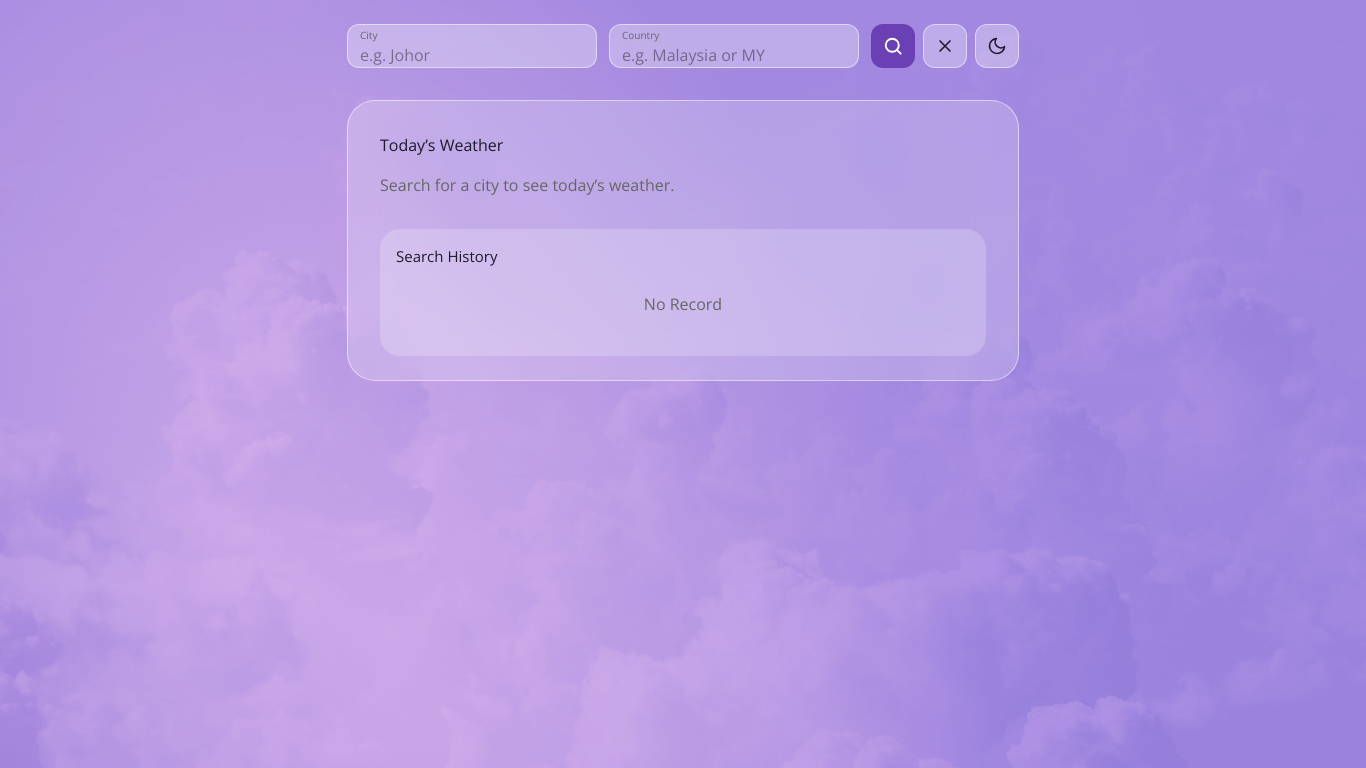
App › shows "Not found" for an unknown city and does not record it
The image size is (1366, 768).
Clear the field labelled "City" at (472, 53), box [360,40,584,67]
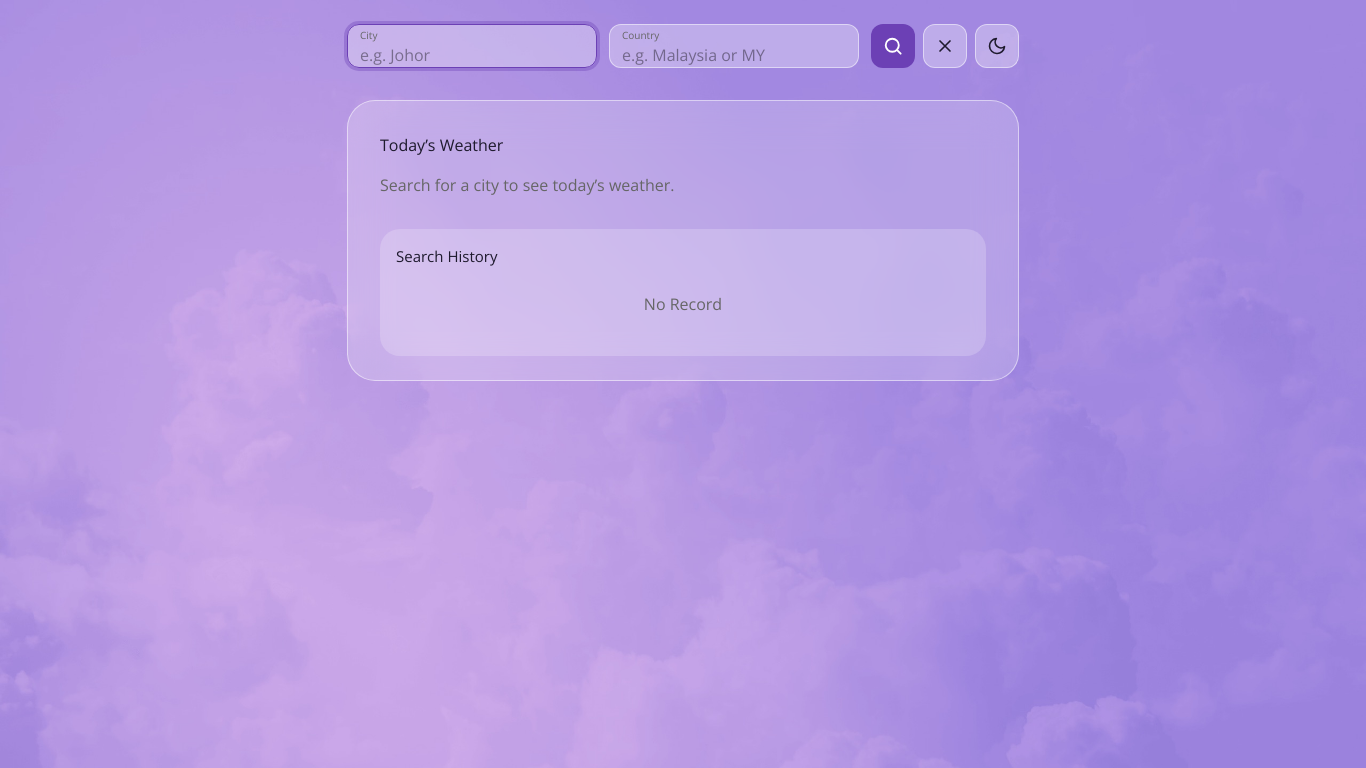
Clear the field labelled "Country" at (734, 53), box [622,40,846,67]
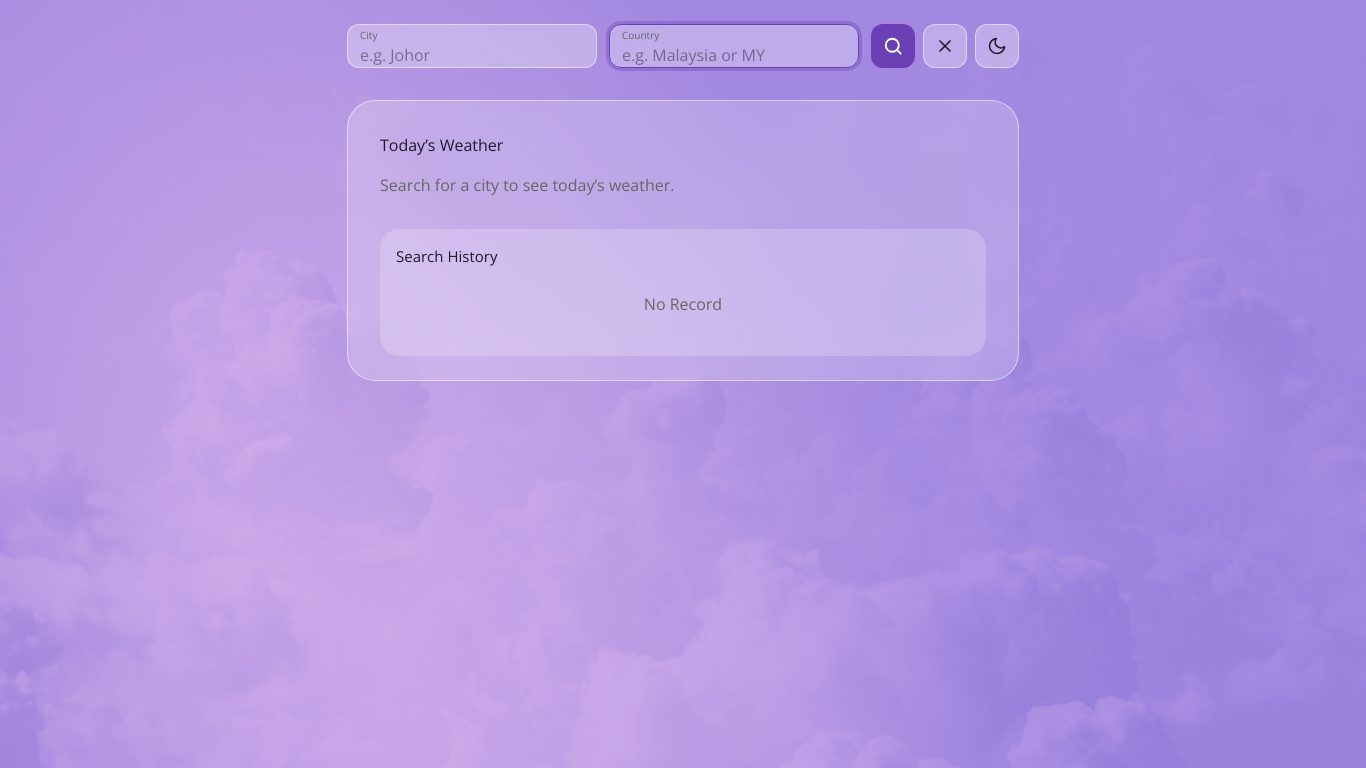
Type "xxx" into the field labelled "City" at (472, 53), box [360,40,584,67]
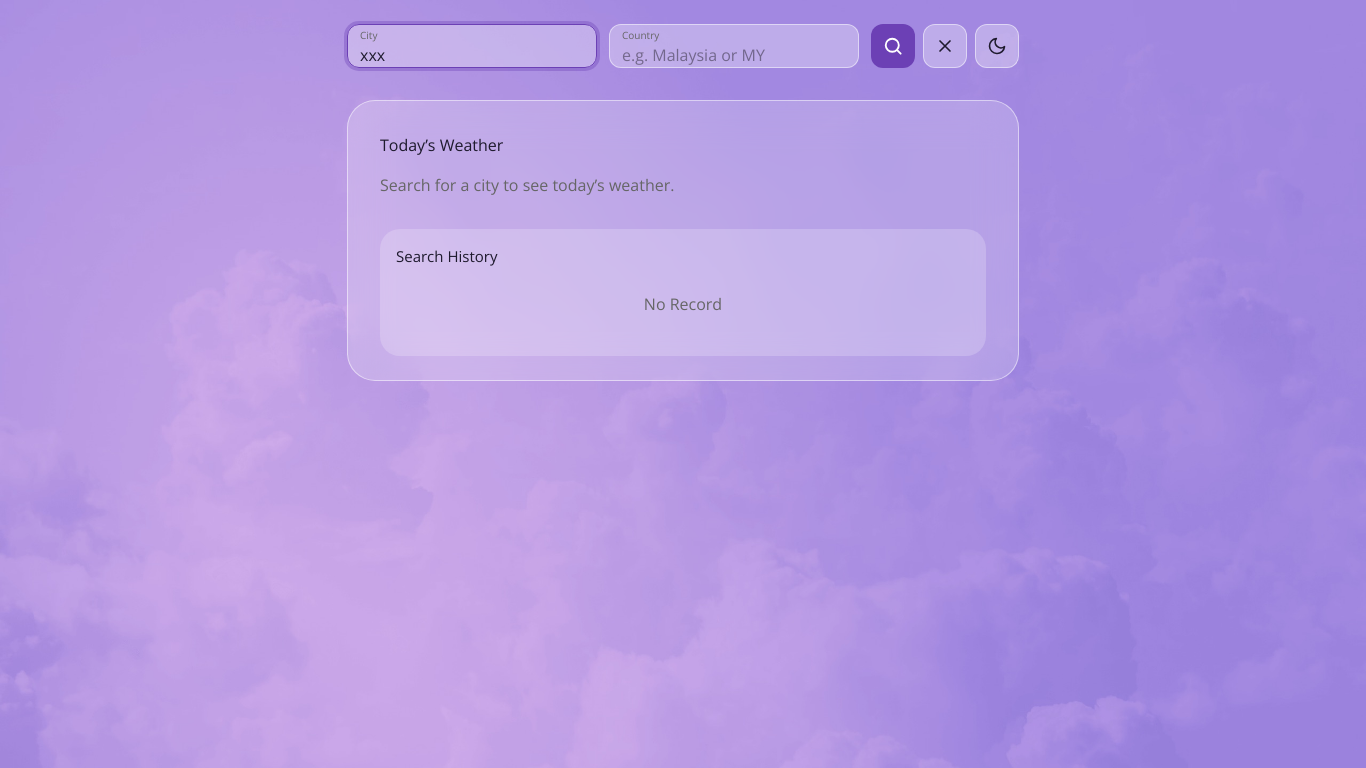
Click the button named "Search" at (893, 46), box [871,24,915,68]
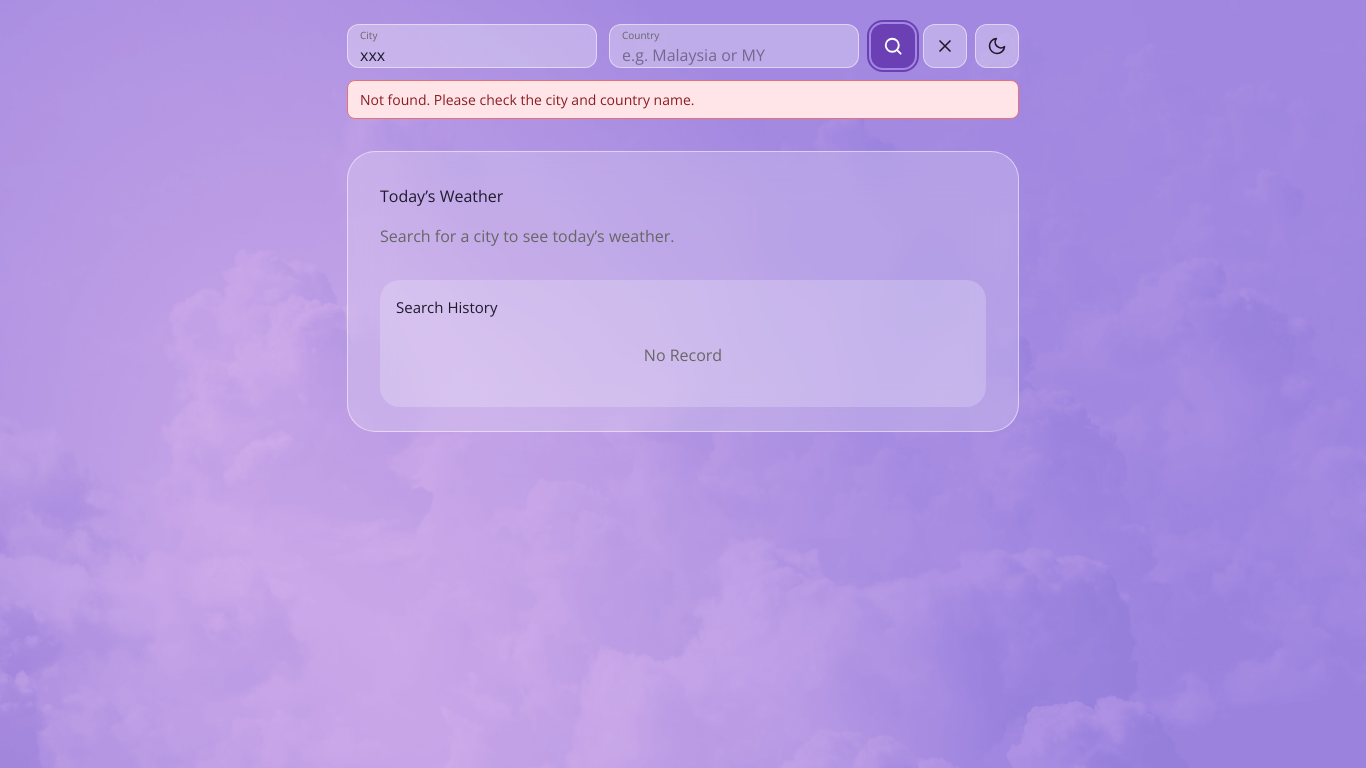
Expected: the text "No Record" is shown, [644,344,722,366]
Now the message shows "Not found", box [360,90,694,109]
